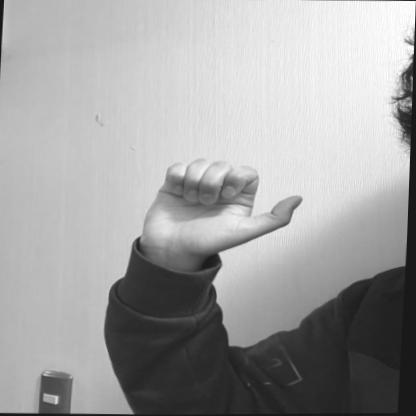E: (139, 158, 314, 254)
